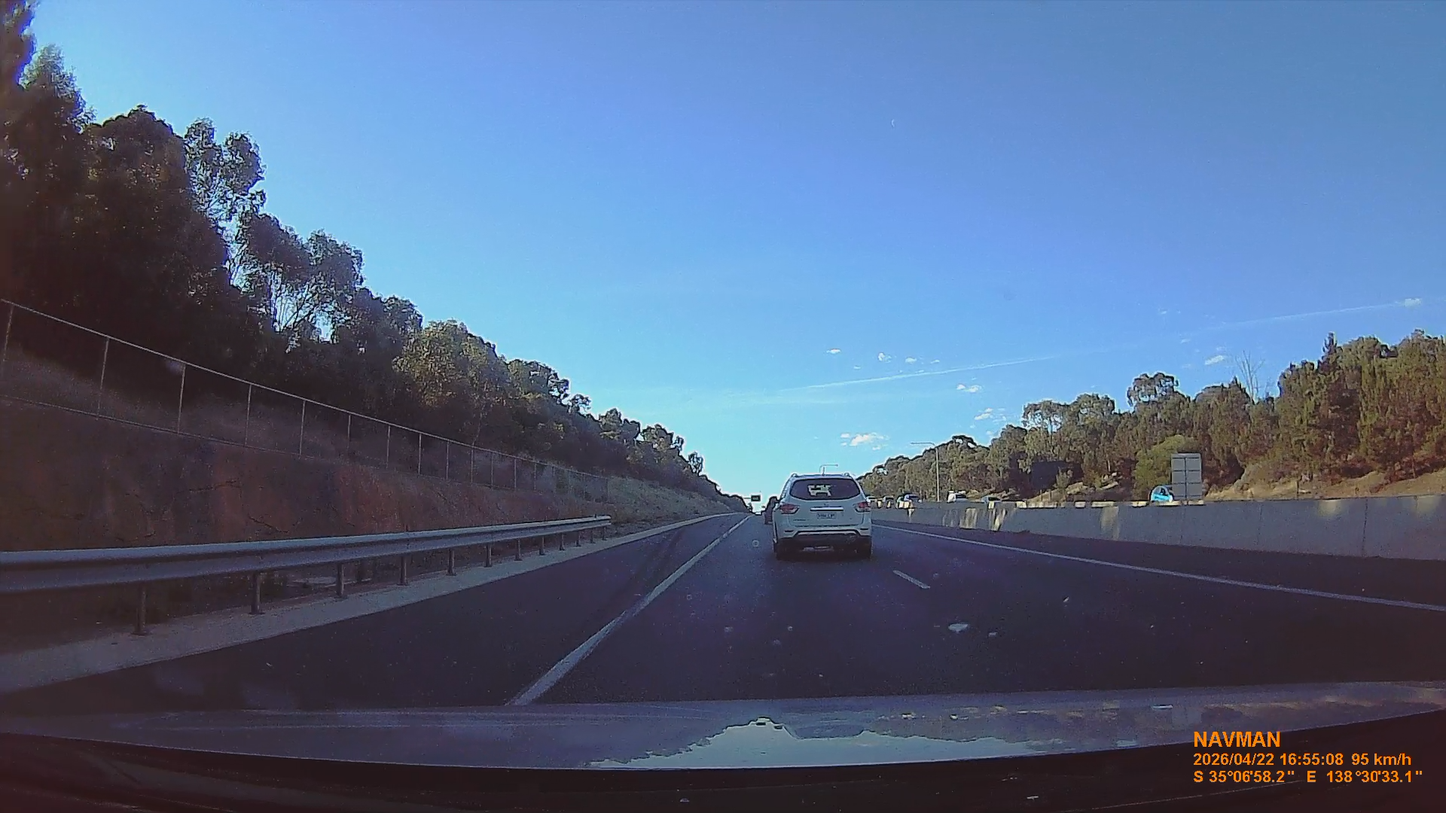fences: (0, 300, 608, 501)
road barriers: (0, 516, 612, 650), (905, 495, 1445, 562)
